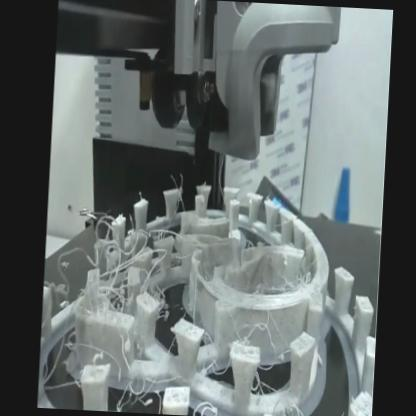fail: (43, 223, 180, 415), (226, 263, 314, 305), (201, 324, 238, 378), (192, 398, 230, 416), (290, 406, 347, 416)
